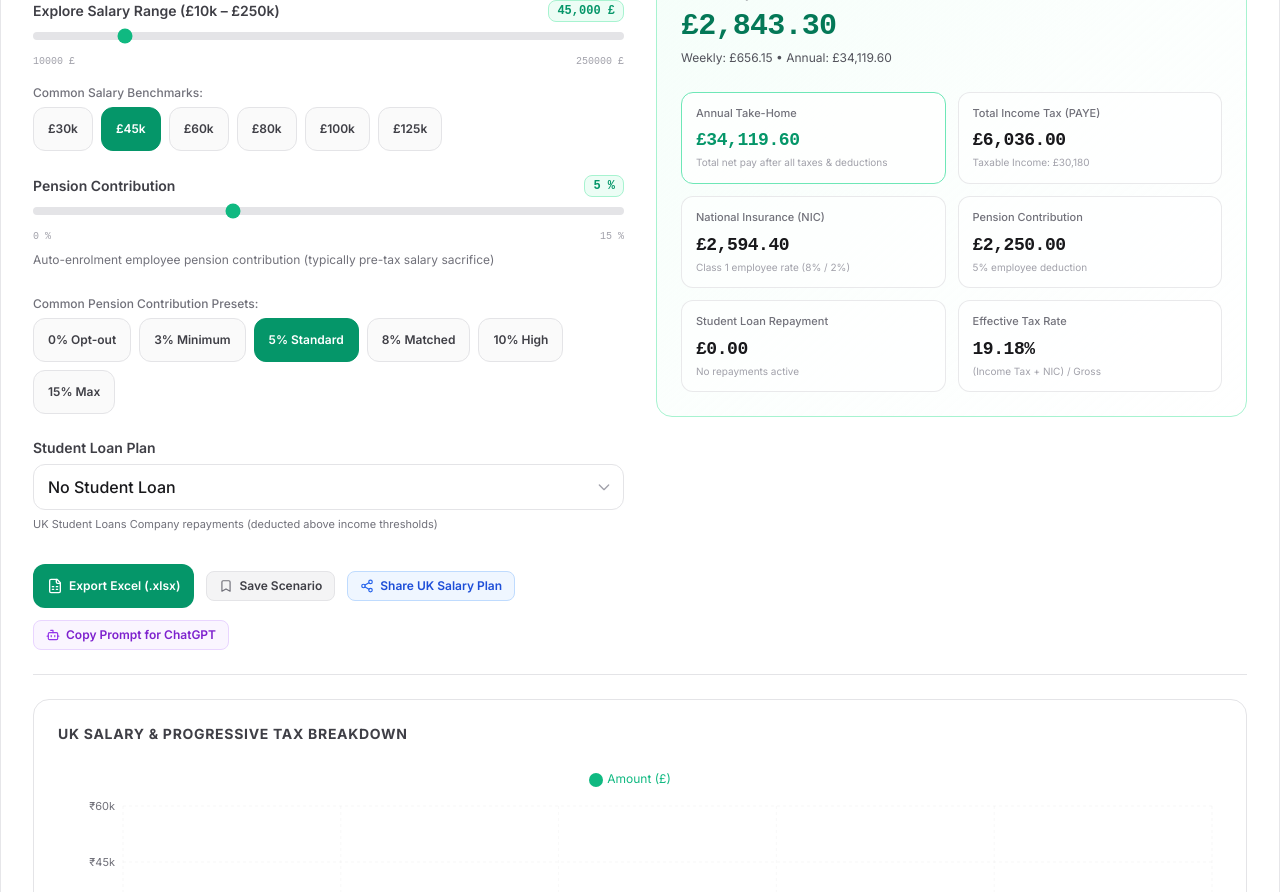
Test case: UkSalaryCalculator UI Component › updates output when pension or student loan plan changes
(page scrolled)
Step 1. Select "Plan 2 (Post-2012 England/Wales, threshold £27,295)" in the dropdown labelled "Student Loan Plan" → (328, 487), box [33, 464, 624, 510]
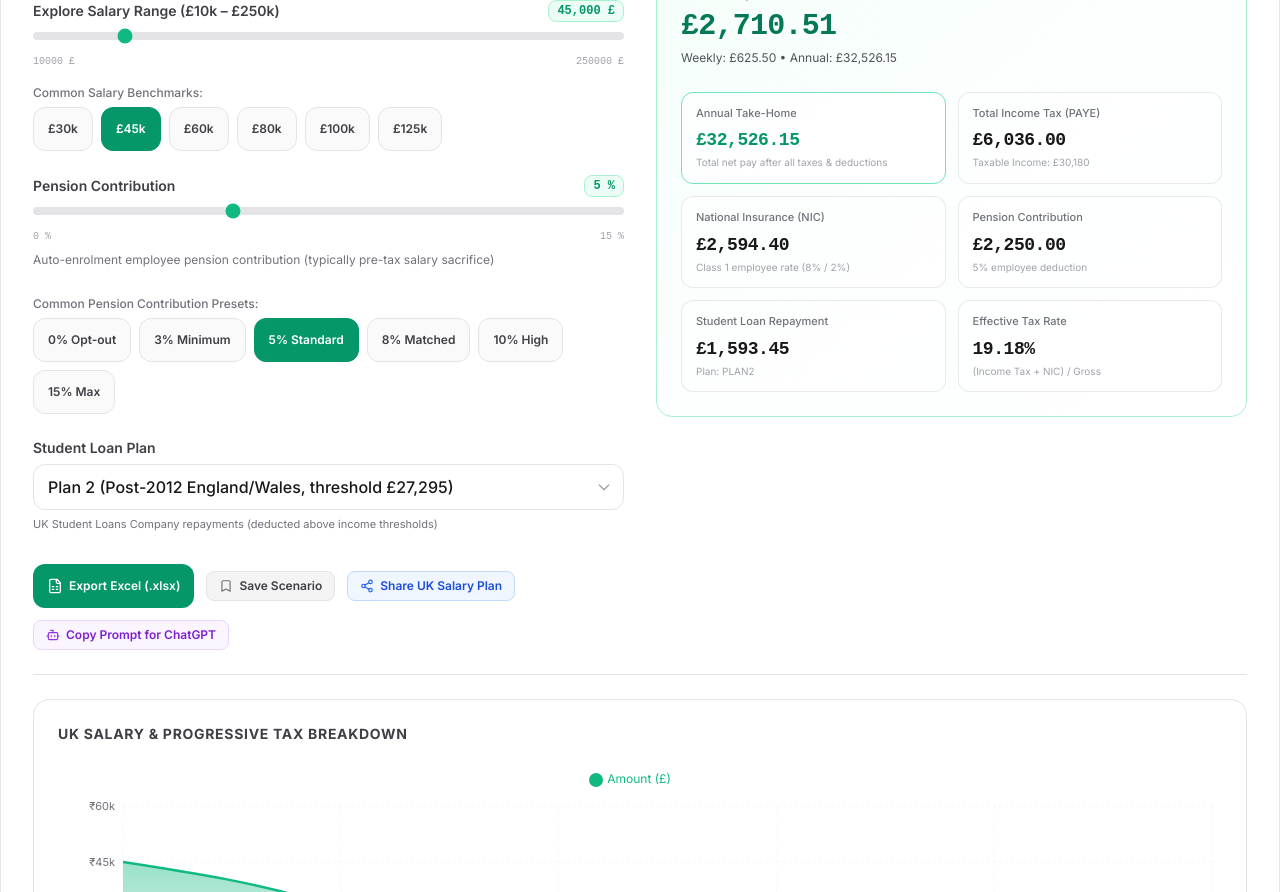
Expected: the text "£1,593.45" is shown, [696, 339, 789, 359]
